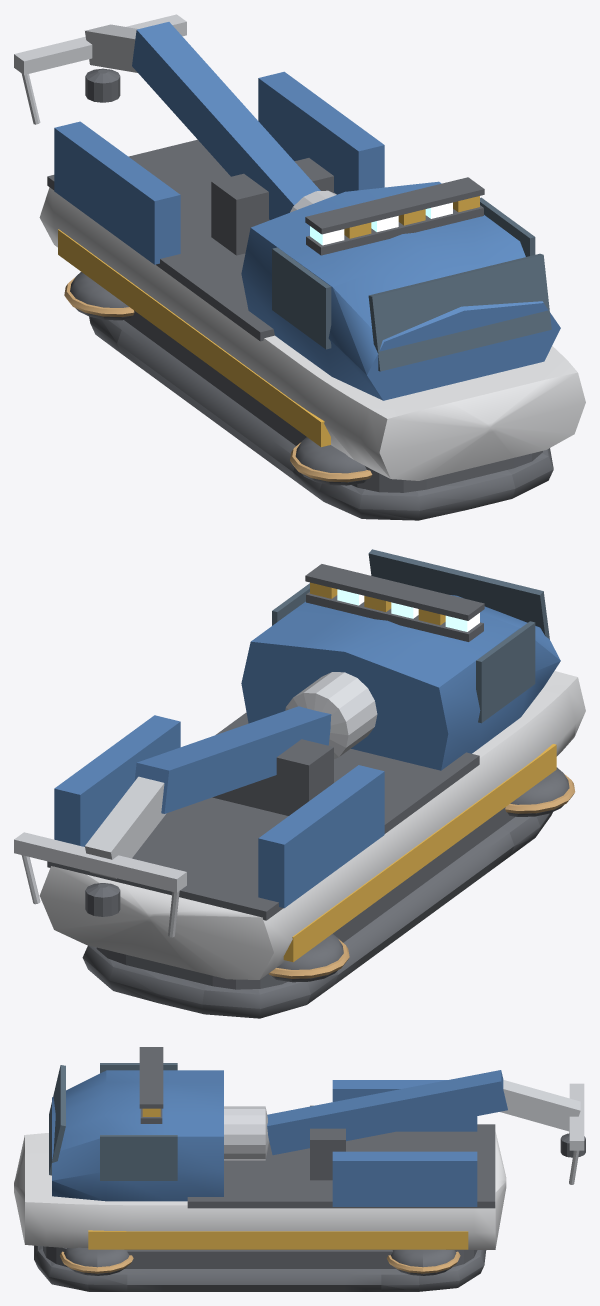
Rendered from hover-transit-and-antigrav-fleet-tow-skiff-e8baf35e__17098.glb.
The picture shows the model from 3 angles, top to bottom: view 1: azimuth 30°, elevation 25°; view 2: azimuth 150°, elevation 25°; view 3: azimuth 270°, elevation 25°; orthographic projection. The views are drawn at different scales.
Visible parts, largest first — view 1: tow-skiff, tow-boom (×3); view 2: tow-skiff, tow-boom (×3); view 3: tow-skiff, tow-boom (×2).
Boxes of the visible parts, <box> form: tow-skiff: <box>39,71,585,520</box>; tow-boom (×3): <box>14,14,320,219</box>; tow-skiff: <box>39,549,585,1018</box>; tow-boom (×3): <box>14,706,331,937</box>; tow-skiff: <box>14,1047,506,1291</box>; tow-boom (×2): <box>267,1070,584,1184</box>.
Size of the model in its own units: 2.51 by 2.23 by 6.32.
